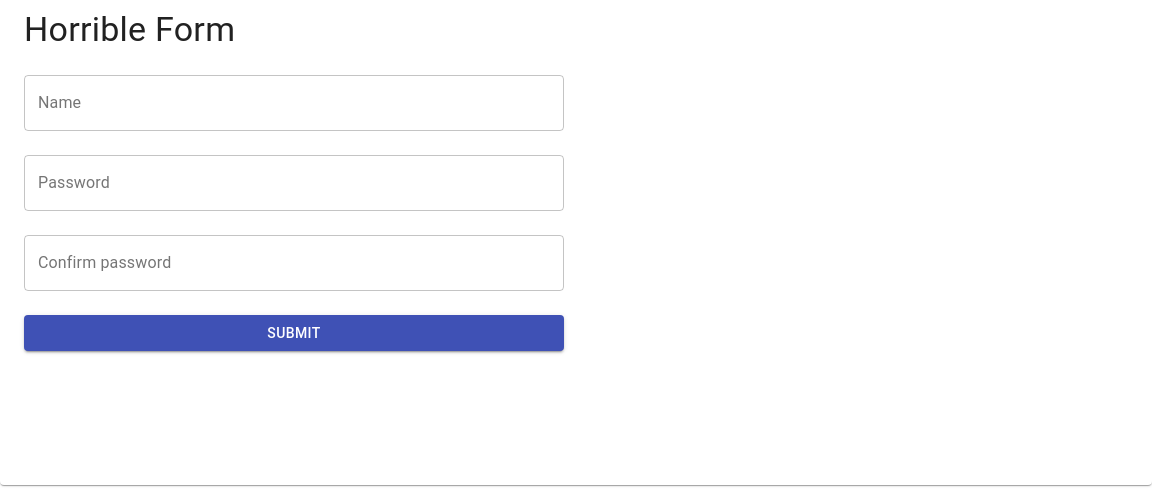
HorribleForm › throws validation on submit
This screenshot has width=1152, height=504.
What coordinates should you click on to do the following:
click the button "Submit"
I would click on:
 (294, 333)
Its box is [24, 315, 564, 352].
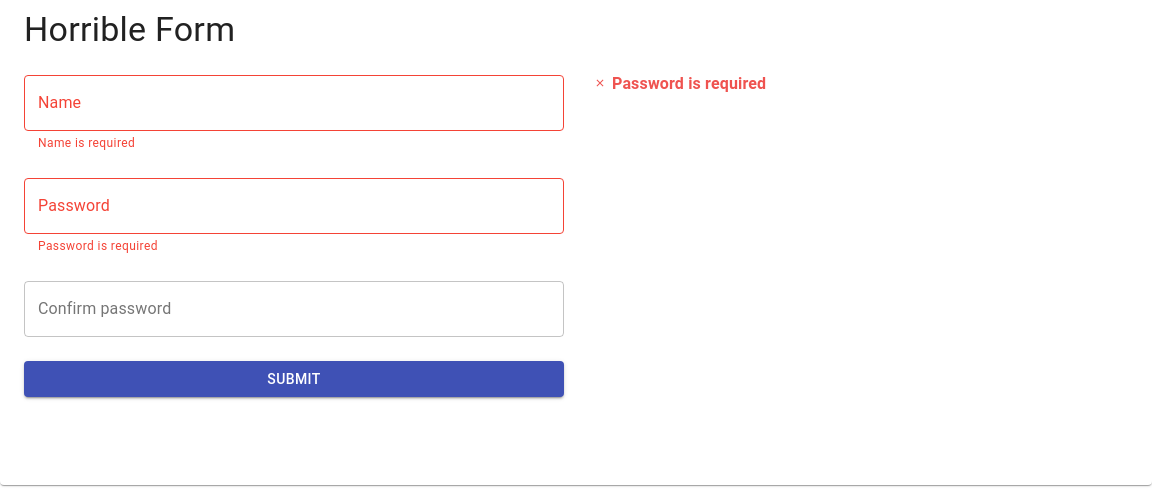
Result: the text "Password is required" is shown at [38, 239, 158, 253]
Result: the heading "Password is required" is shown at [588, 65, 766, 93]
Result: the text "Name is required" is shown at [38, 136, 135, 150]
